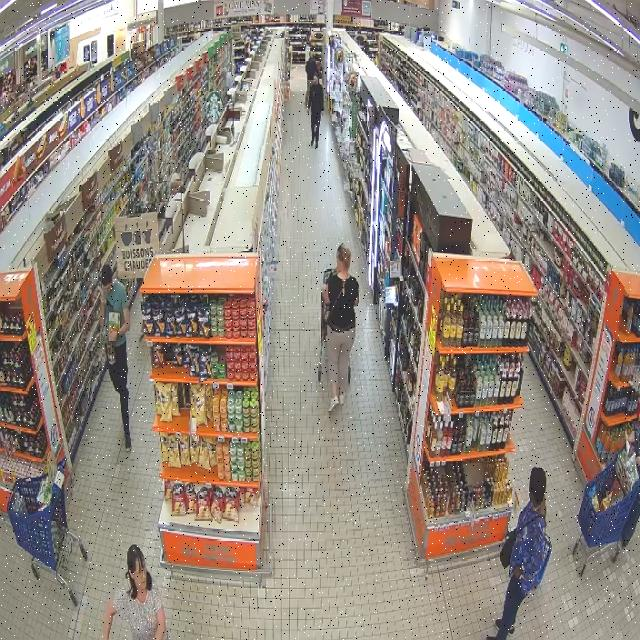article: (108, 312, 120, 335), (108, 341, 115, 364)
bags: (500, 515, 541, 567)
hands: (109, 328, 118, 342), (513, 566, 523, 578), (100, 287, 105, 305)
person: (488, 467, 546, 639), (103, 545, 169, 639), (322, 245, 359, 411), (100, 264, 130, 451), (309, 76, 324, 147), (621, 496, 639, 547), (165, 173, 182, 220)
